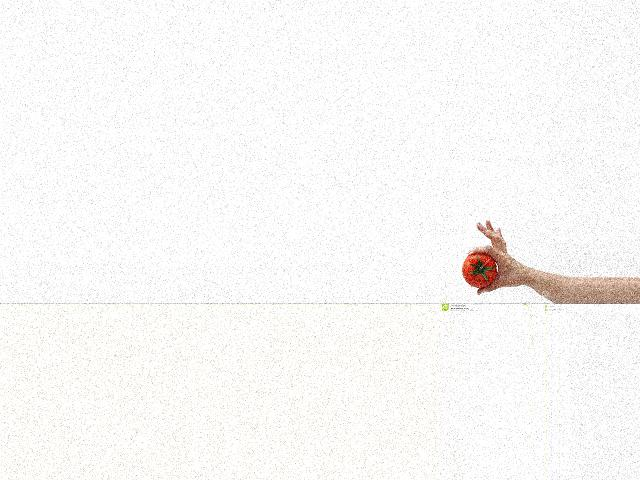tomato: (462, 253, 497, 288)
